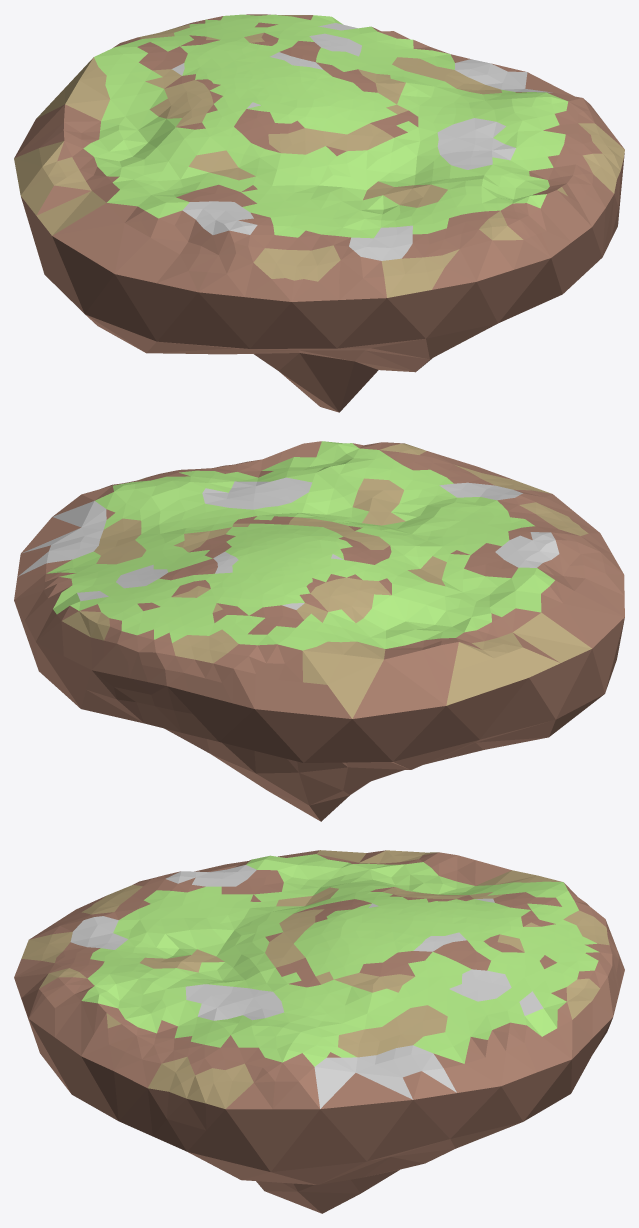
File: small1.fbx
3 renders of one model, top to bottom at view 1: azimuth 30°, elevation 25°; view 2: azimuth 150°, elevation 25°; view 3: azimuth 270°, elevation 25°, orthographic.
Parts seen in each view (by area): view 1: 棱角球; view 2: 棱角球; view 3: 棱角球.
Boxes of the visible parts, left/top/right/bottom form: 棱角球: left=14, top=14, right=624, bottom=412; 棱角球: left=14, top=441, right=624, bottom=821; 棱角球: left=14, top=850, right=624, bottom=1213.
Bounding box in the file's own units: 4919 × 2584 × 4902.
